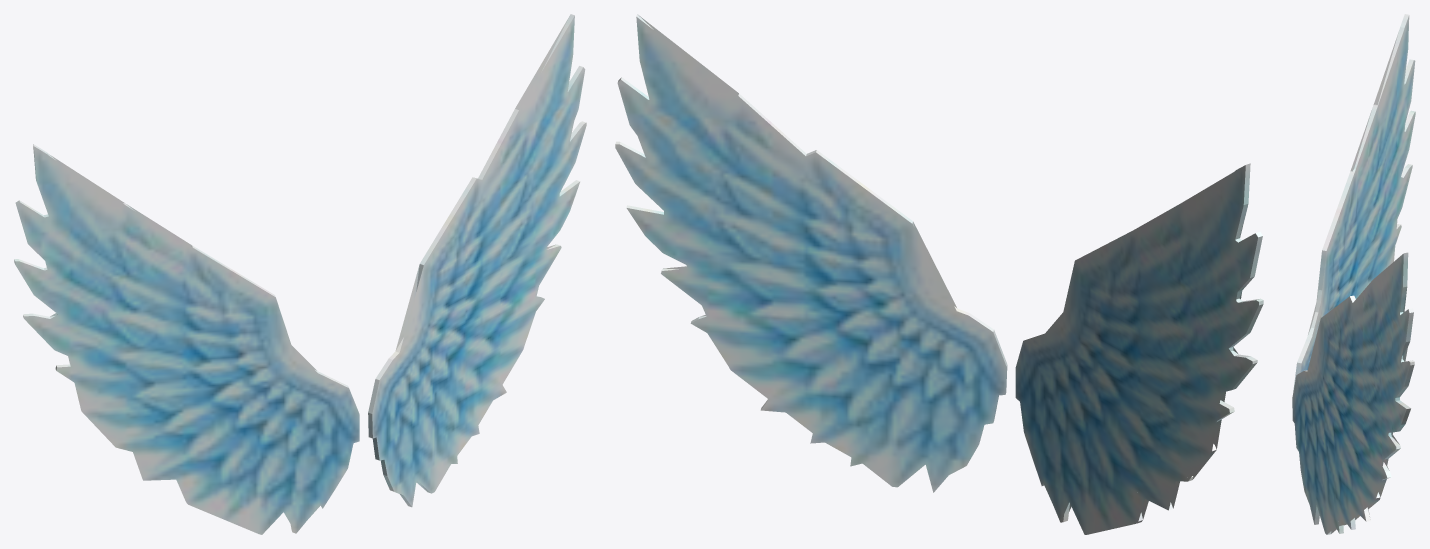
Rendered from back_ice.glb.
3 views of the same model, side by side, from view 1: azimuth 30°, elevation 25°; view 2: azimuth 150°, elevation 25°; view 3: azimuth 270°, elevation 25° (orthographic). The views are drawn at different scales.
Parts seen in each view (by area): view 1: back_ice_q; view 2: back_ice_q; view 3: back_ice_q.
Boxes of the visible parts, box(x1,y1,x2,y2) form: back_ice_q: box(14, 14, 586, 534); back_ice_q: box(615, 14, 1263, 534); back_ice_q: box(1292, 14, 1415, 534).
Bounding box in the file's own units: 6.17 × 4.18 × 1.28.
1 material, 1 textured.
